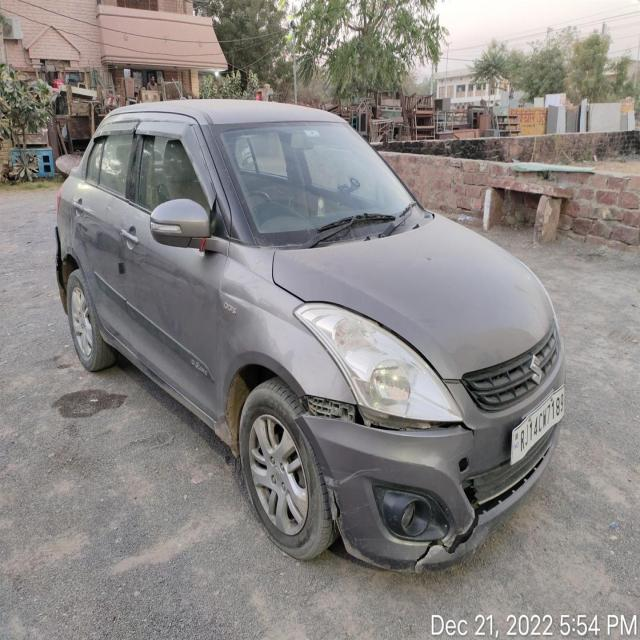damage: (305, 394, 476, 436), (415, 535, 470, 563), (462, 478, 480, 539), (330, 488, 344, 522)
